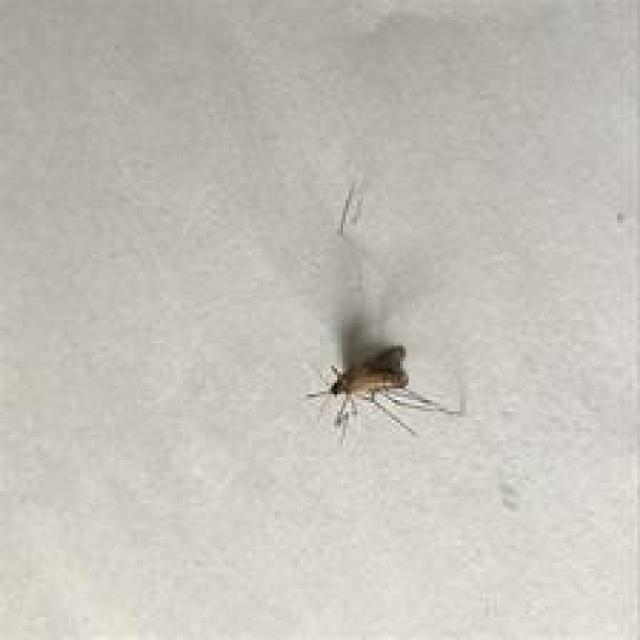Culex: (303, 180, 463, 443)
